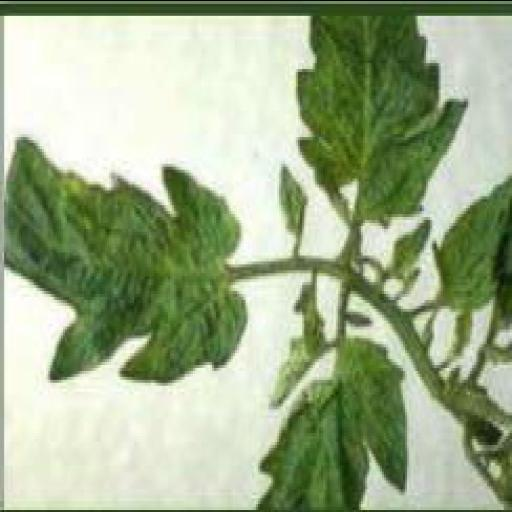disease_tomato: (0, 130, 254, 396), (294, 12, 464, 222), (244, 340, 418, 512)
